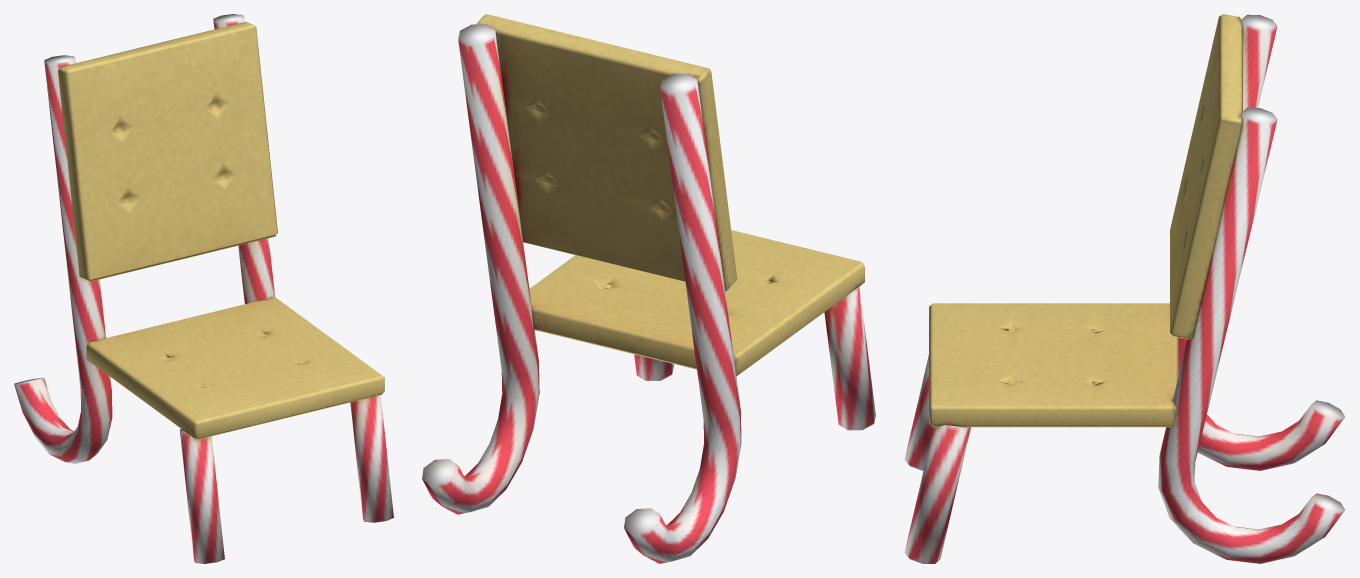
The model's file is polka_chair.glb.
3 renders of one model, left to right at view 1: azimuth 30°, elevation 25°; view 2: azimuth 150°, elevation 25°; view 3: azimuth 270°, elevation 25°, orthographic. The views are drawn at different scales.
Parts seen in each view (by area): view 1: polka_chair; view 2: polka_chair; view 3: polka_chair.
Part boxes in pixels (bbox=[...]): polka_chair: bbox=[14, 14, 393, 563]; polka_chair: bbox=[422, 14, 875, 563]; polka_chair: bbox=[904, 14, 1345, 563].
Size of what is drawn, in the model's own units: 0.42 by 0.8153 by 0.7212.
Materials: 1 (1 with a texture image).
